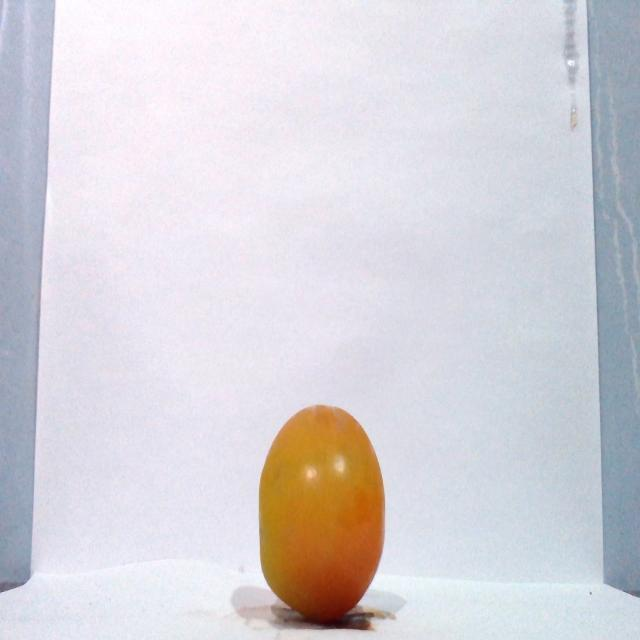Red: (257, 402, 386, 623)
